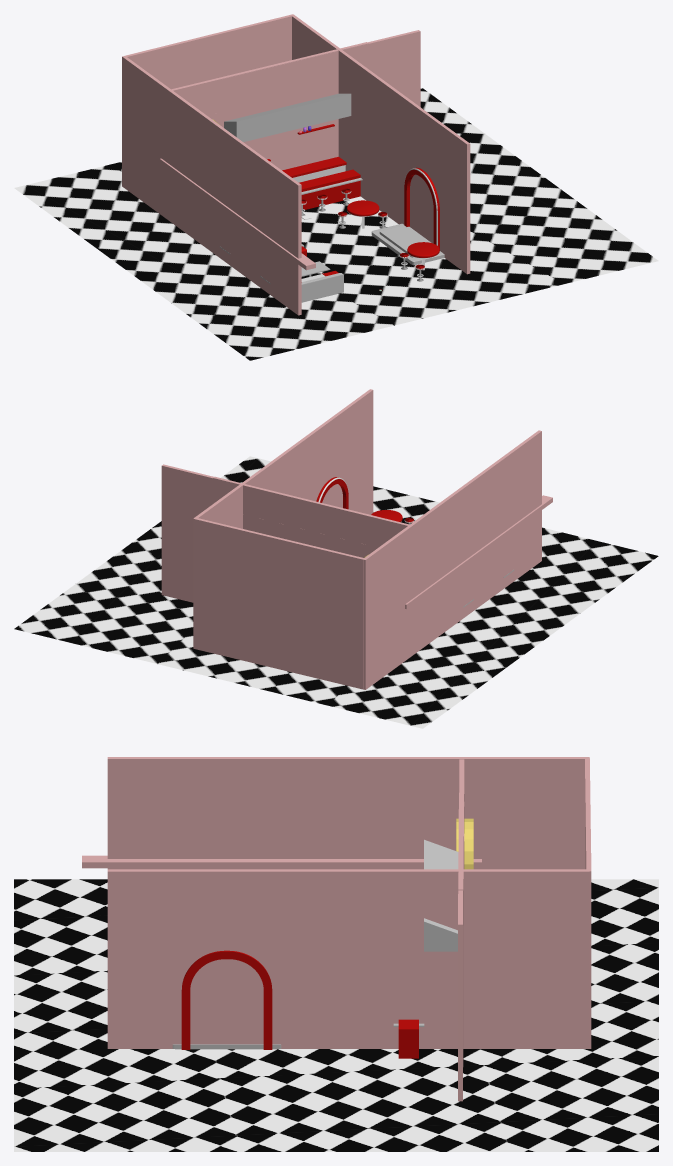
Rendered from finalthng 1.fbx.
3 renders of one model, top to bottom at view 1: azimuth 30°, elevation 25°; view 2: azimuth 150°, elevation 25°; view 3: azimuth 270°, elevation 25°, orthographic. The views are drawn at different scales.
Visible parts, largest first — view 1: Plane, wall2, wall1, wall1__1_, wall1__6_, Cube.010, wall1__2_, Cube.006, stage.001, Cube__10_, Cube.014, Cube.011 (+1 smaller); view 2: Plane, wall2, wall1__6_, wall1, wall1__2_, wall1__1_, wall1__3_, Cube__10_; view 3: Plane, wall1, wall2, Cube__10_, Cube.014, Cube.010, wall1__1_, wall1__6_, Cube.006, wall1__2_, mesh_met_animatie.
Part boxes in pixels (x1,y1,x2,y2): Plane: (14,88,658,360); wall2: (122,56,301,315); wall1: (292,15,470,274); wall1__1_: (222,30,420,170); wall1__6_: (124,14,294,89); Cube.010: (224,93,351,141); wall1__2_: (171,42,368,115); Cube.006: (299,169,360,209); stage.001: (371,223,444,265); Cube__10_: (160,158,315,270); Cube.014: (404,167,439,250); Cube.011: (282,156,346,182); Plane: (14,456,658,728); wall2: (364,430,541,689); wall1__6_: (193,517,364,689); wall1: (194,389,373,528); wall1__2_: (213,476,409,551); wall1__1_: (161,464,213,602); wall1__3_: (243,514,365,557); Cube__10_: (405,495,552,608); Plane: (14,879,658,1151); wall1: (107,869,589,1048); wall2: (107,757,589,869); Cube__10_: (82,855,481,868); Cube.014: (181,950,272,1049); Cube.010: (424,839,458,951); wall1__1_: (458,793,463,1101); wall1__6_: (585,758,591,1048); Cube.006: (398,1019,418,1058); wall1__2_: (458,759,464,925); mesh_met_animatie: (456,818,473,869).
Size of the model in its own units: 22938 by 7833 by 22938.
